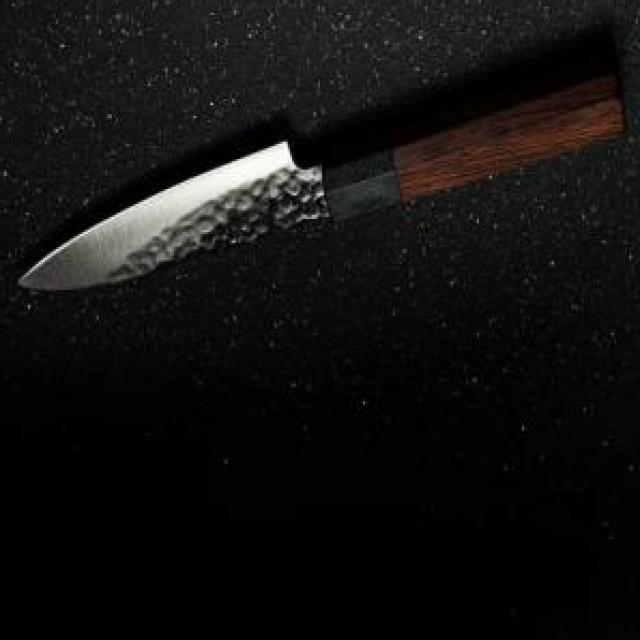knife: (17, 61, 625, 301)
